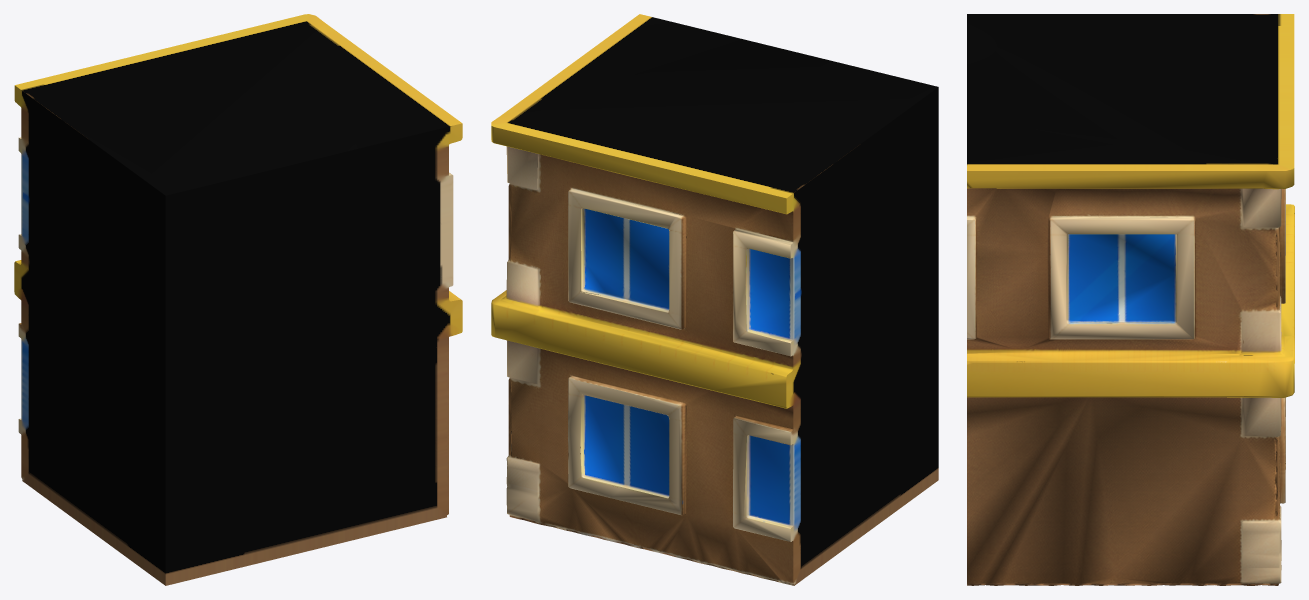
The model's file is 4-ground-floor-back-right.fbx.
3 renders of one model, left to right at view 1: azimuth 30°, elevation 25°; view 2: azimuth 150°, elevation 25°; view 3: azimuth 270°, elevation 25°, orthographic. The views are drawn at different scales.
Visible parts, largest first — view 1: ground-floor-back-right; view 2: ground-floor-back-right; view 3: ground-floor-back-right.
Boxes of the visible parts, x1,y1,x2,y2 form: ground-floor-back-right: [14, 14, 462, 585]; ground-floor-back-right: [491, 14, 938, 585]; ground-floor-back-right: [967, 14, 1294, 585].
Bounding box in the file's own units: 4459 × 5599 × 3931.
Materials: 1 (1 with a texture image).
